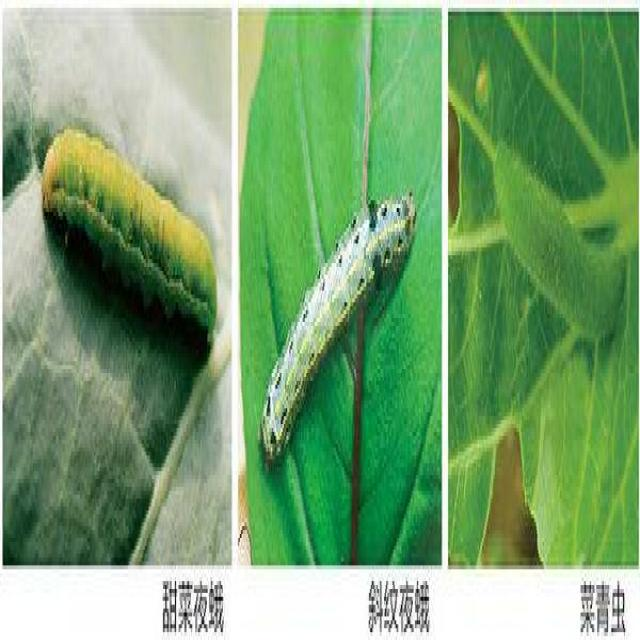BeetArmyWorm-Larva-: (32, 107, 220, 373)
